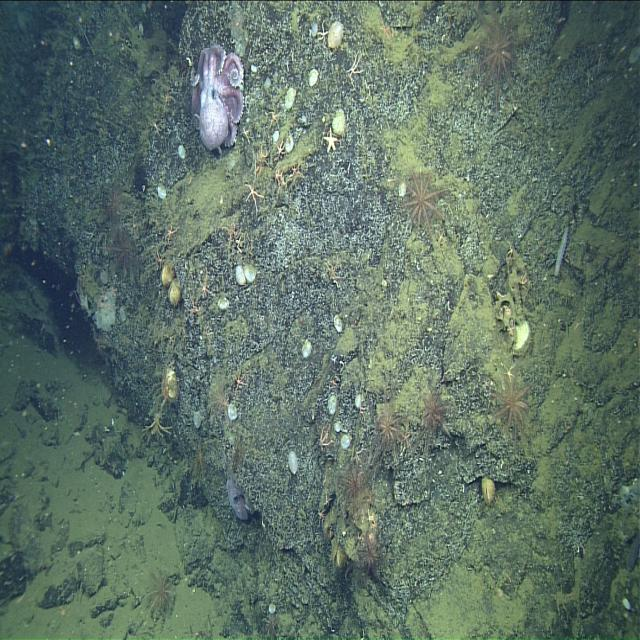Brittle Star: (313, 413, 338, 456), (195, 265, 215, 305), (316, 416, 336, 454), (516, 268, 529, 296)
Not Brittle Star: (186, 39, 248, 158), (468, 5, 524, 114), (399, 155, 452, 246), (485, 361, 536, 448), (415, 366, 457, 449), (336, 456, 374, 522), (141, 563, 178, 625), (372, 399, 408, 462), (102, 224, 141, 281), (139, 396, 174, 449), (186, 433, 213, 487), (551, 218, 572, 280), (552, 218, 572, 280), (228, 432, 254, 477), (161, 366, 182, 402), (260, 611, 280, 638), (481, 473, 496, 508), (167, 277, 182, 307), (332, 542, 344, 570), (159, 263, 173, 285)
